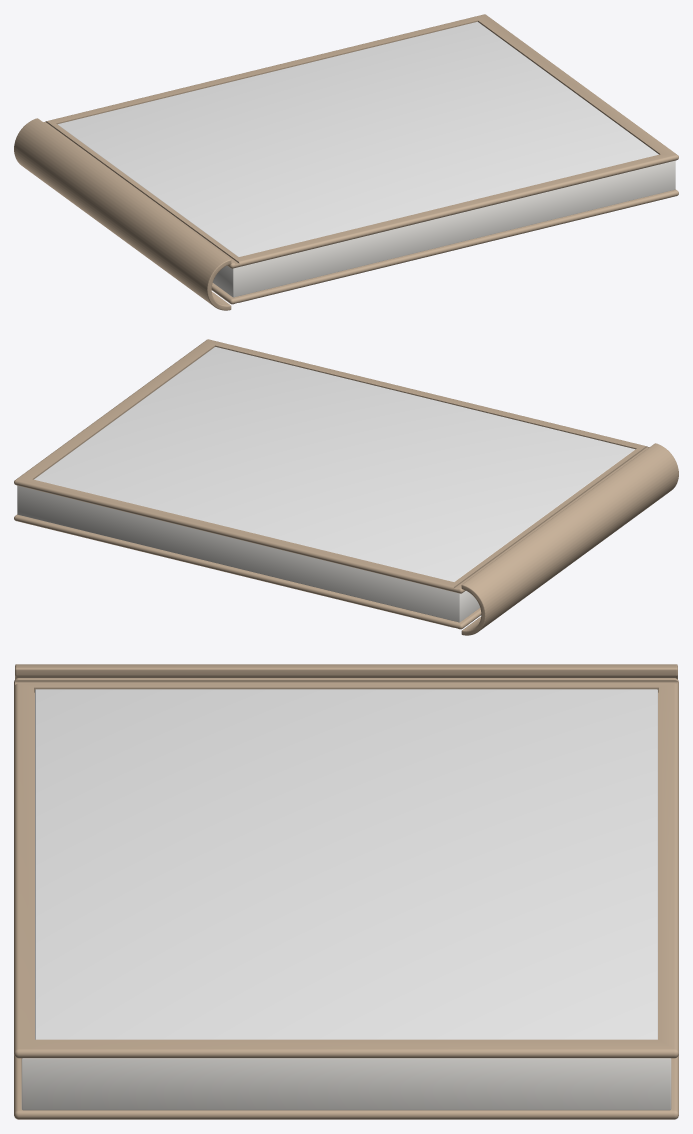
File: photo-full--landscape.glb
The picture shows the model from 3 angles, top to bottom: view 1: azimuth 30°, elevation 25°; view 2: azimuth 150°, elevation 25°; view 3: azimuth 270°, elevation 25°; orthographic projection. The views are drawn at different scales.
Parts seen in each view (by area): view 1: Photo, Pages, Spine, CoverFront, CoverBack; view 2: Photo, Pages, Spine, CoverFront, CoverBack; view 3: Photo, CoverFront, Pages, Spine, CoverBack.
Boxes of the visible parts, left/top/right/bottom form: Photo: left=57, top=22, right=658, bottom=256; Pages: left=213, top=160, right=675, bottom=297; Spine: left=14, top=118, right=231, bottom=310; CoverFront: left=43, top=14, right=678, bottom=268; CoverBack: left=211, top=189, right=678, bottom=304; Photo: left=34, top=347, right=635, bottom=581; Pages: left=17, top=485, right=479, bottom=622; Spine: left=461, top=443, right=678, bottom=635; CoverFront: left=14, top=339, right=649, bottom=593; CoverBack: left=14, top=514, right=481, bottom=629; Photo: left=35, top=689, right=657, bottom=1039; CoverFront: left=14, top=678, right=678, bottom=1058; Pages: left=21, top=1058, right=671, bottom=1110; Spine: left=15, top=664, right=677, bottom=679; CoverBack: left=14, top=1055, right=678, bottom=1119.
Size of the model in its own units: 0.4208 by 0.043 by 0.3.
